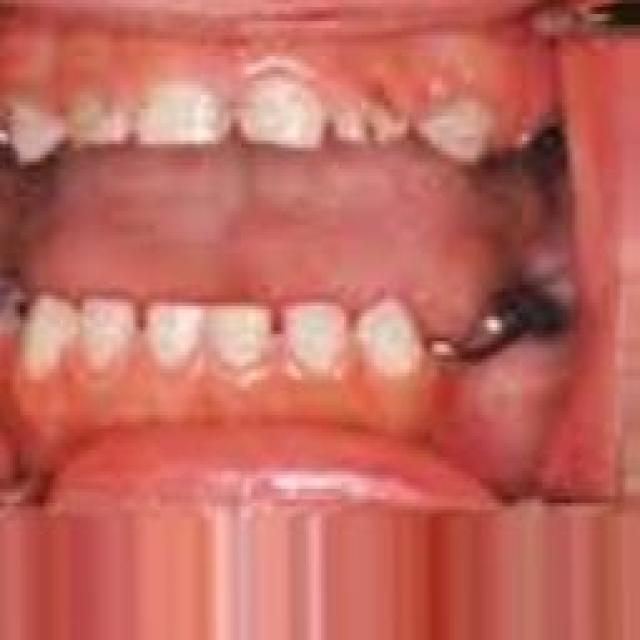caries: (458, 277, 563, 375), (333, 90, 413, 166), (512, 99, 571, 180)
